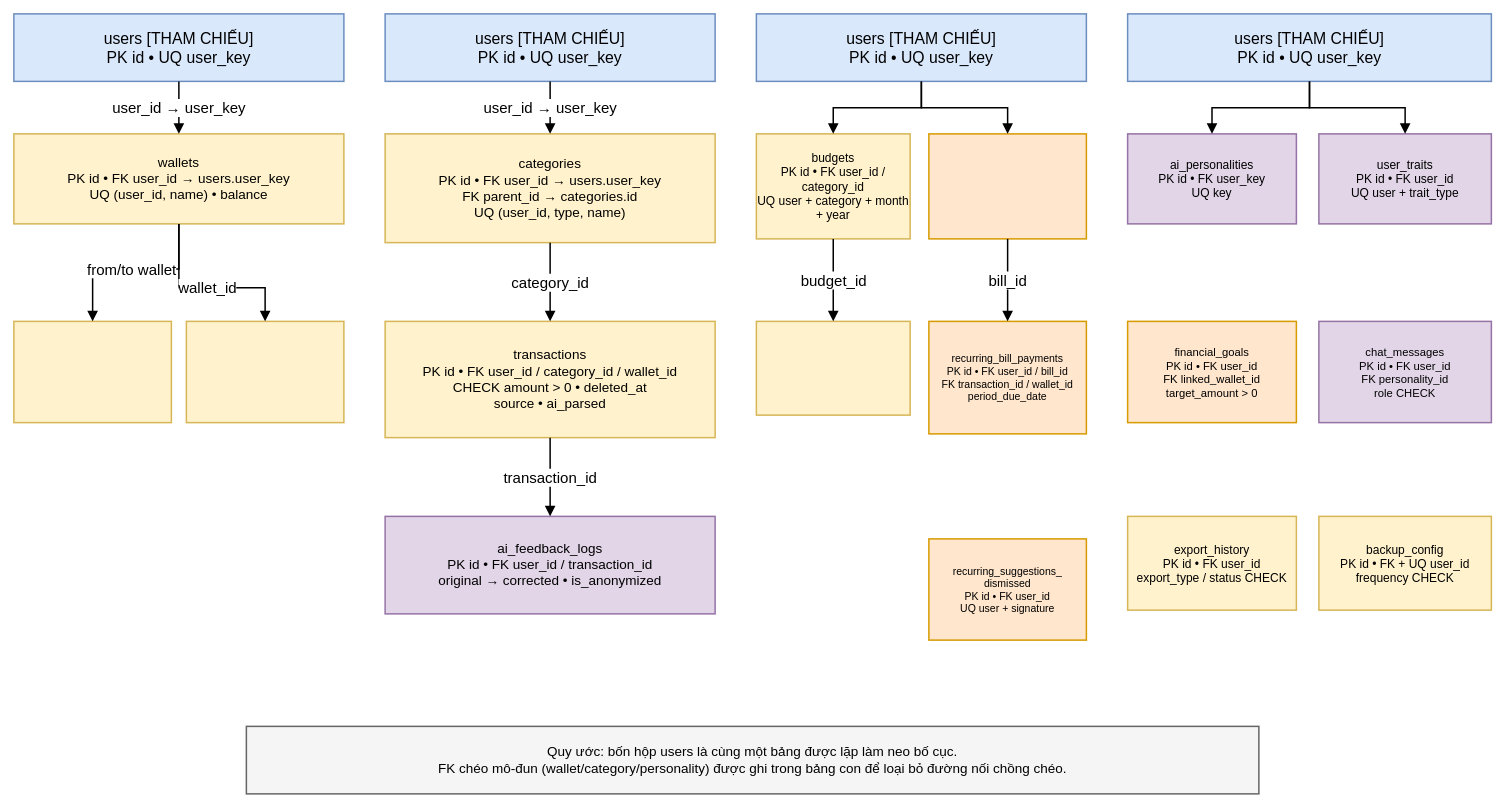
The diagram is 1505 pixels wide and 807 high, and some of its shapes have lost their labels. The centre of each missing label's shape, as x and y in pixels:
"budget_history PK id • FK budget_id old_value → new_value" goes at pixel 832 368.
"investment_pnl PK id • FK user_id FK wallet_id • amount ±" goes at pixel 264 371.
"recurring_bills PK id • FK user/category/wallet amount > 0 • next_due_date" goes at pixel 1007 186.
"wallet_transfers PK id • FK user_id FK from_wallet_id / to_wallet_id" goes at pixel 92 371.
